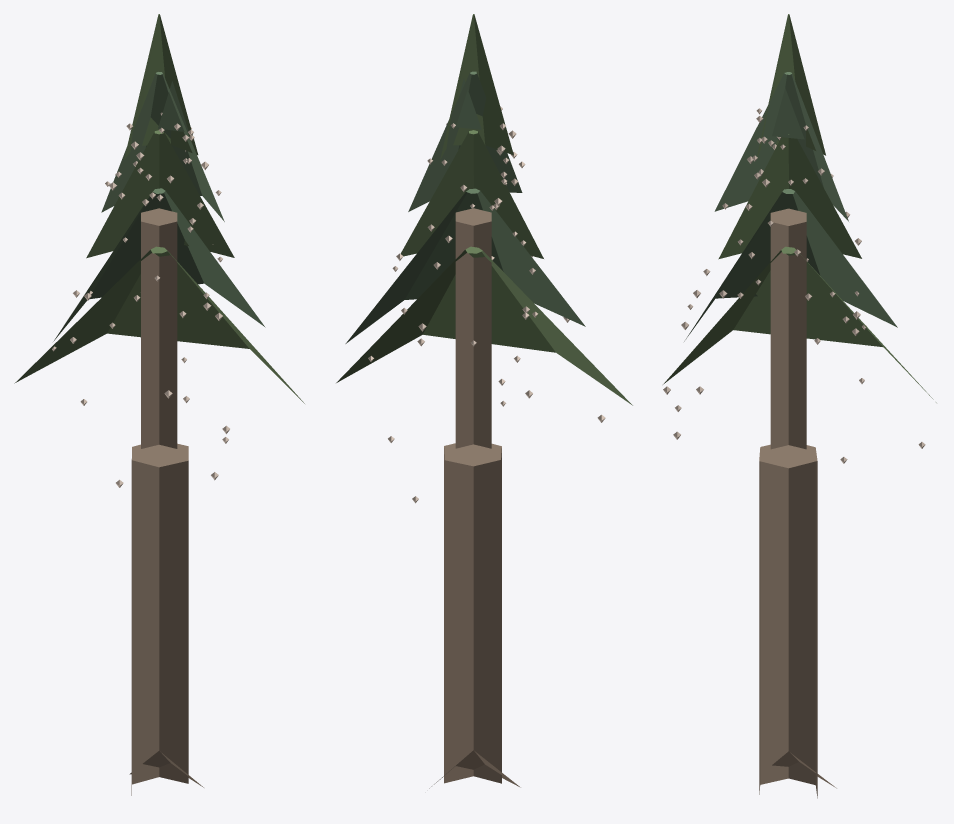
The model's file is shu.hongpi__bloom.glb.
3 views of the same model, side by side, from view 1: azimuth 30°, elevation 25°; view 2: azimuth 150°, elevation 25°; view 3: azimuth 270°, elevation 25° (orthographic).
Visible parts, largest first — view 1: shu.hongpi__bloom; view 2: shu.hongpi__bloom; view 3: shu.hongpi__bloom.
Boxes of the visible parts, x1,y1,x2,y2 form: shu.hongpi__bloom: (14,14,304,795); shu.hongpi__bloom: (336,14,632,788); shu.hongpi__bloom: (663,14,936,798).
Size of the model in its own units: 6.51 by 19.56 by 6.32.
